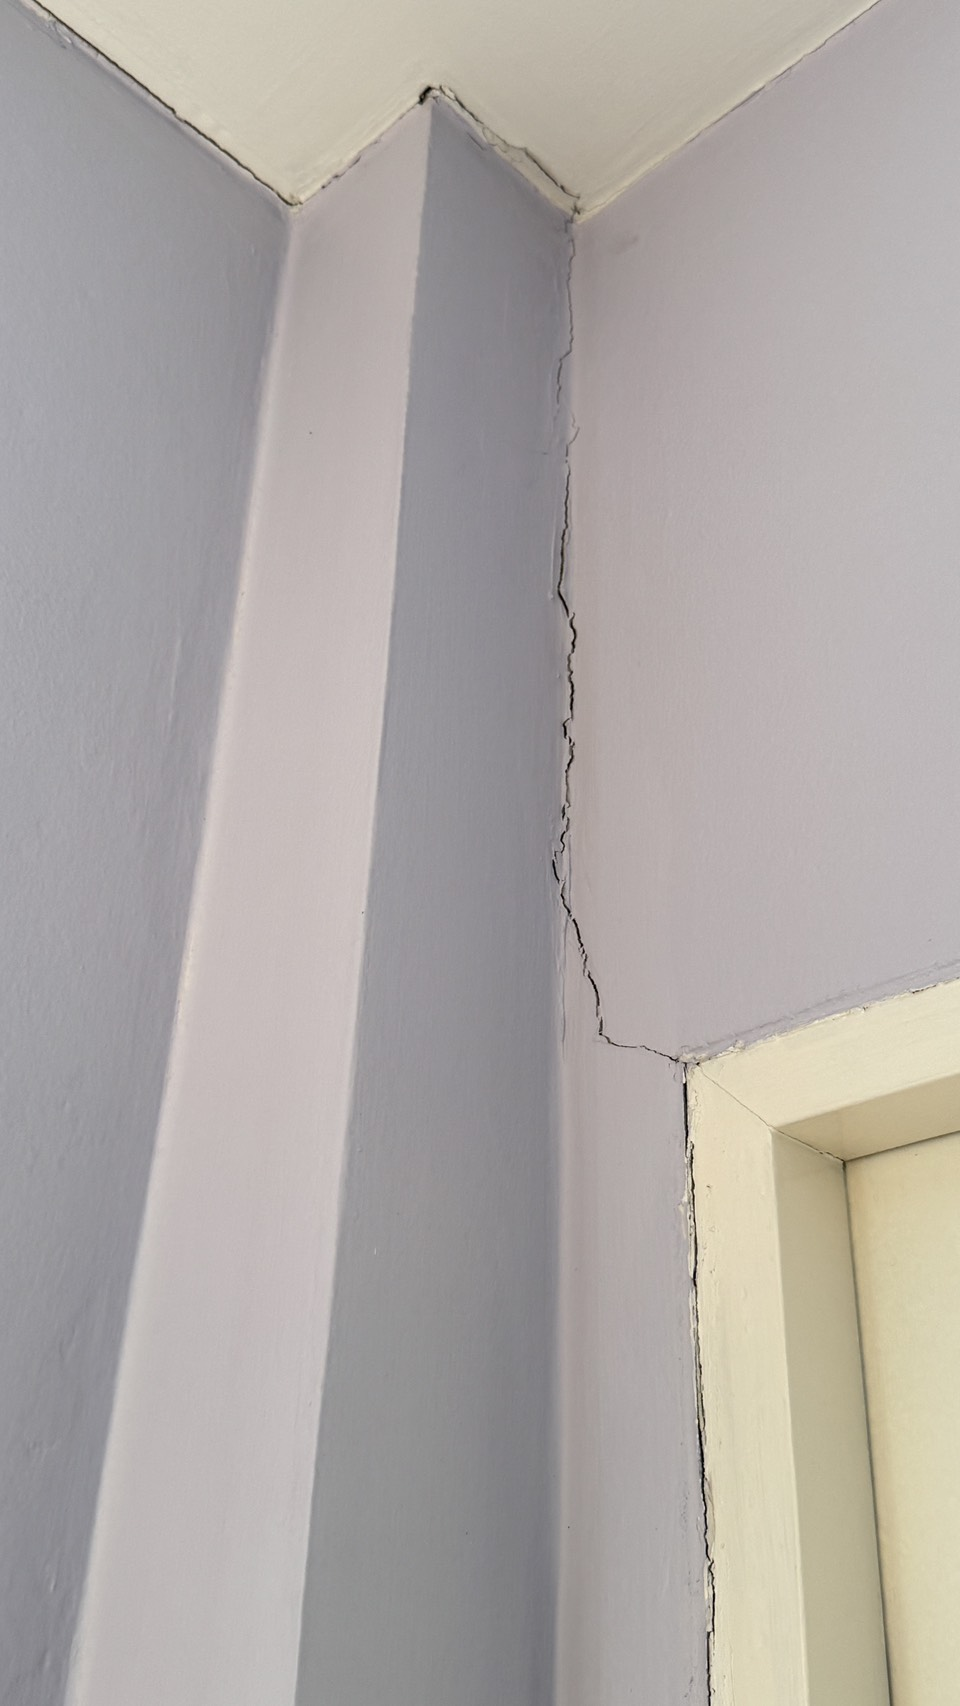Low: (486, 205, 788, 1228)
